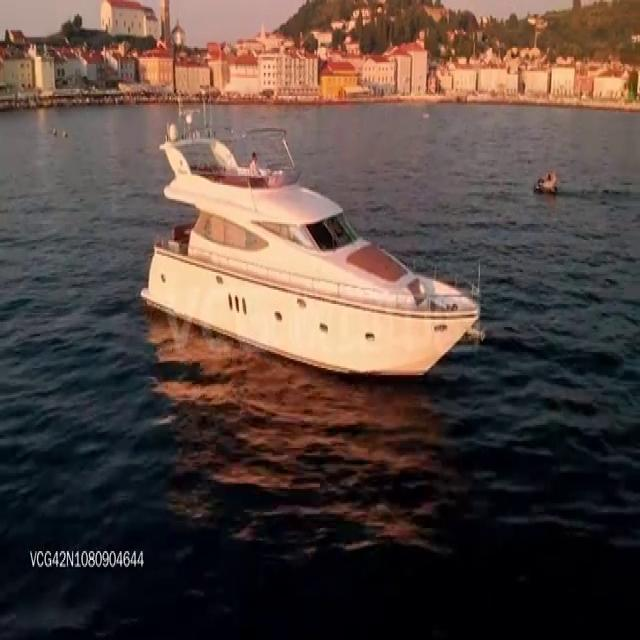houseboat: (143, 113, 486, 388)
